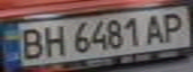1: (121, 15, 145, 47)
4: (90, 18, 109, 52)
6: (69, 19, 93, 54)
8: (106, 16, 127, 51)
A: (142, 11, 172, 45)
B: (15, 25, 48, 61)
H: (36, 23, 69, 57)
P: (157, 9, 190, 43)
